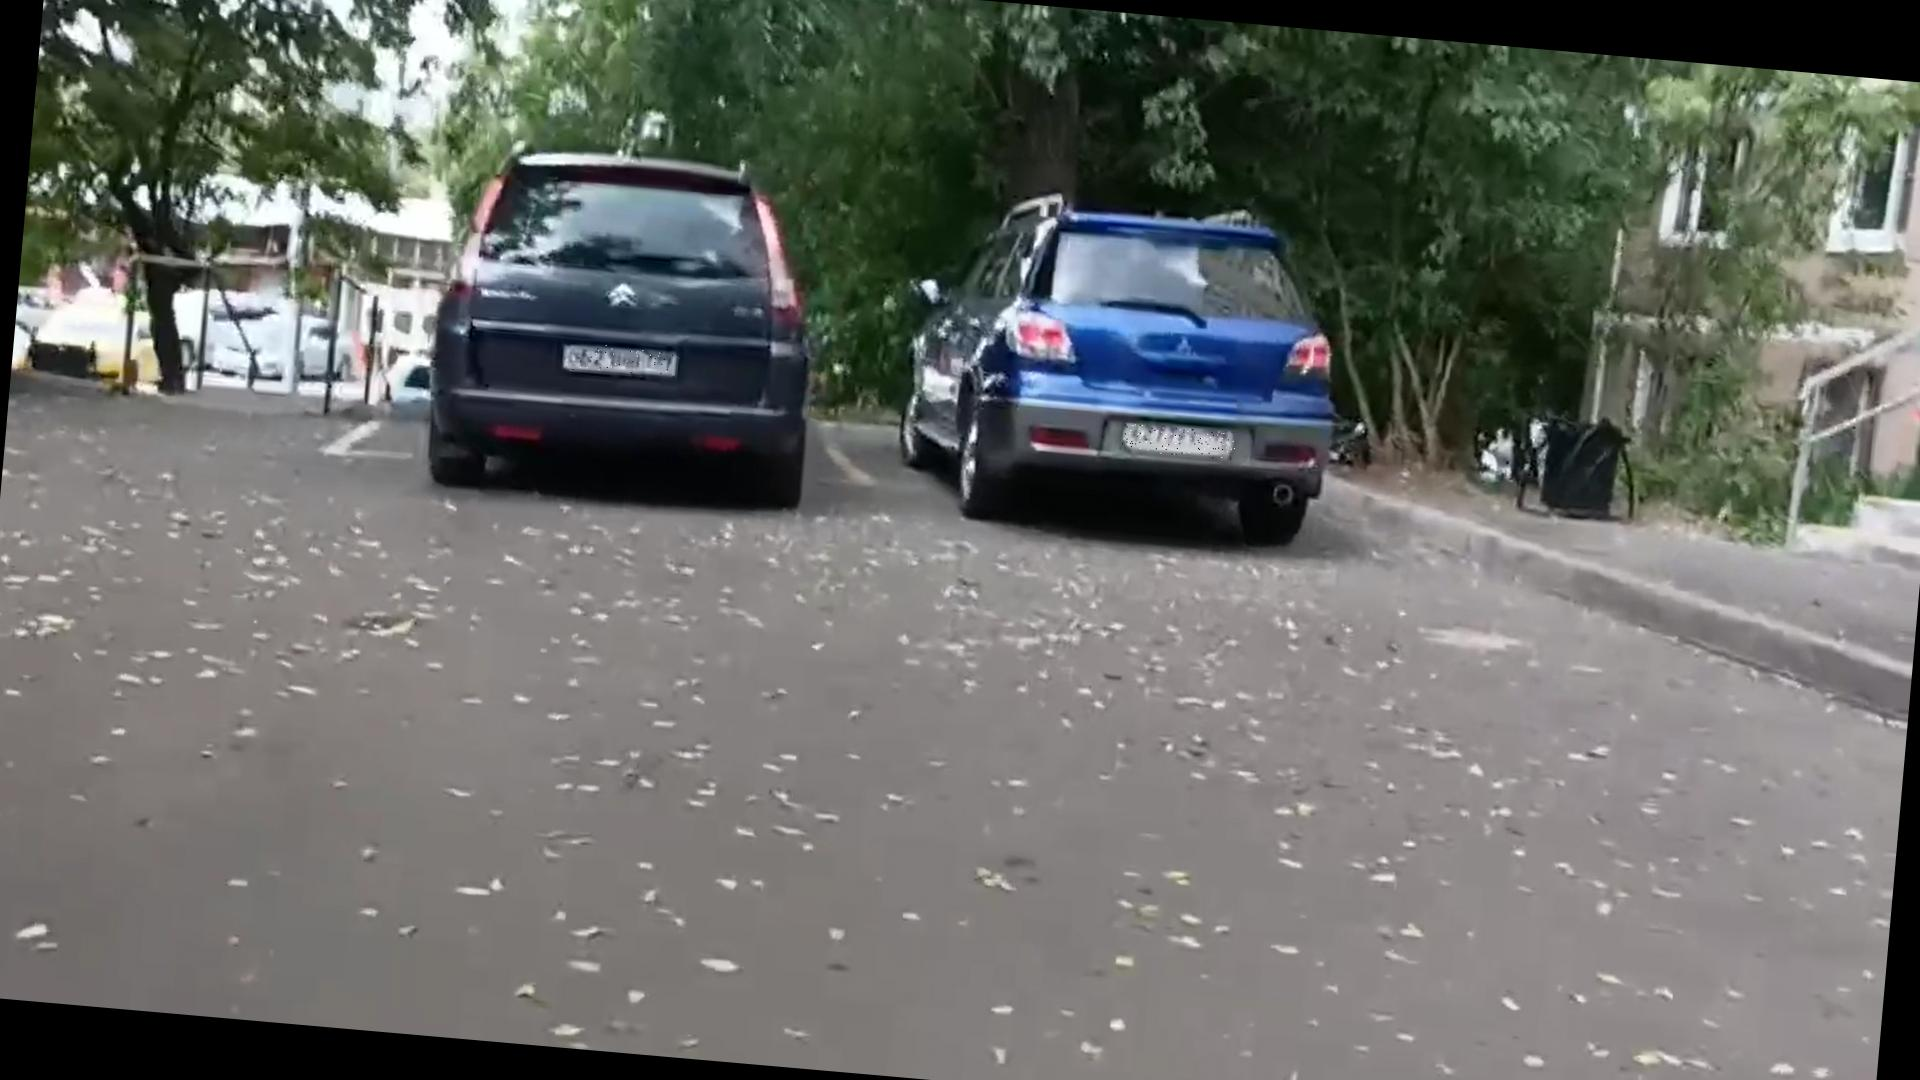plate: (1123, 425, 1239, 462), (571, 343, 681, 380)
